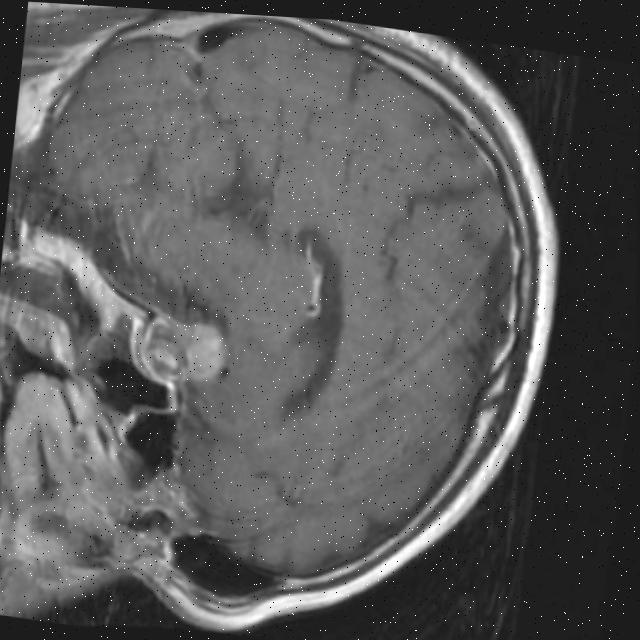Pituitary: (136, 310, 228, 391)
